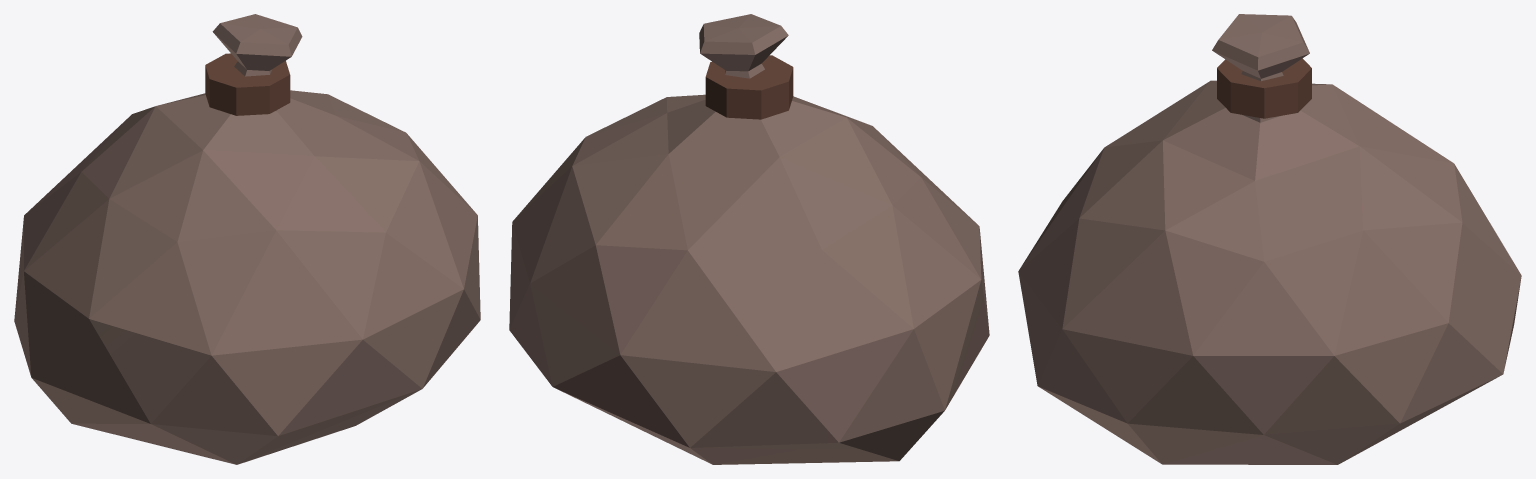
Rendered from boddari.fbx.
3 views of the same model, side by side, from view 1: azimuth 30°, elevation 25°; view 2: azimuth 150°, elevation 25°; view 3: azimuth 270°, elevation 25° (orthographic). The views are drawn at different scales.
Parts seen in each view (by area): view 1: Icosphere, Cylinder; view 2: Icosphere, Cylinder; view 3: Icosphere, Cylinder.
Boxes of the visible parts, x1,y1,x2,y2 form: Icosphere: (14, 14, 480, 464); Cylinder: (205, 53, 290, 115); Icosphere: (509, 14, 989, 464); Cylinder: (705, 55, 793, 119); Icosphere: (1018, 14, 1521, 464); Cylinder: (1217, 58, 1311, 118).
Bounding box in the file's own units: 241 × 224 × 242.
